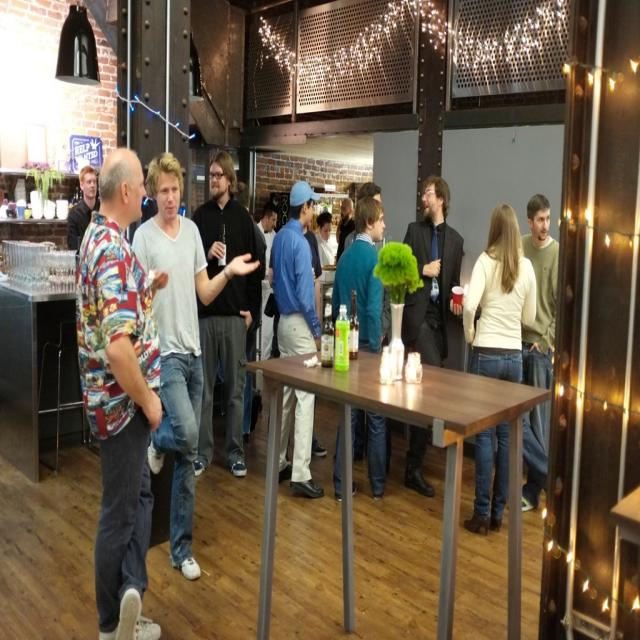chair: (36, 320, 92, 477)
desk: (231, 301, 565, 611)
person: (132, 153, 243, 589), (75, 148, 164, 632), (462, 200, 540, 536), (190, 151, 262, 478), (268, 177, 325, 499), (520, 195, 559, 510), (401, 174, 464, 369), (330, 183, 387, 353), (66, 163, 101, 251)
